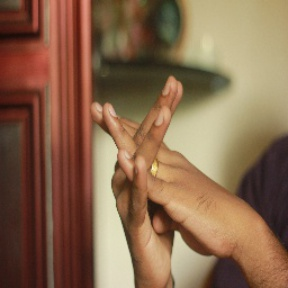W: (92, 69, 215, 239)
